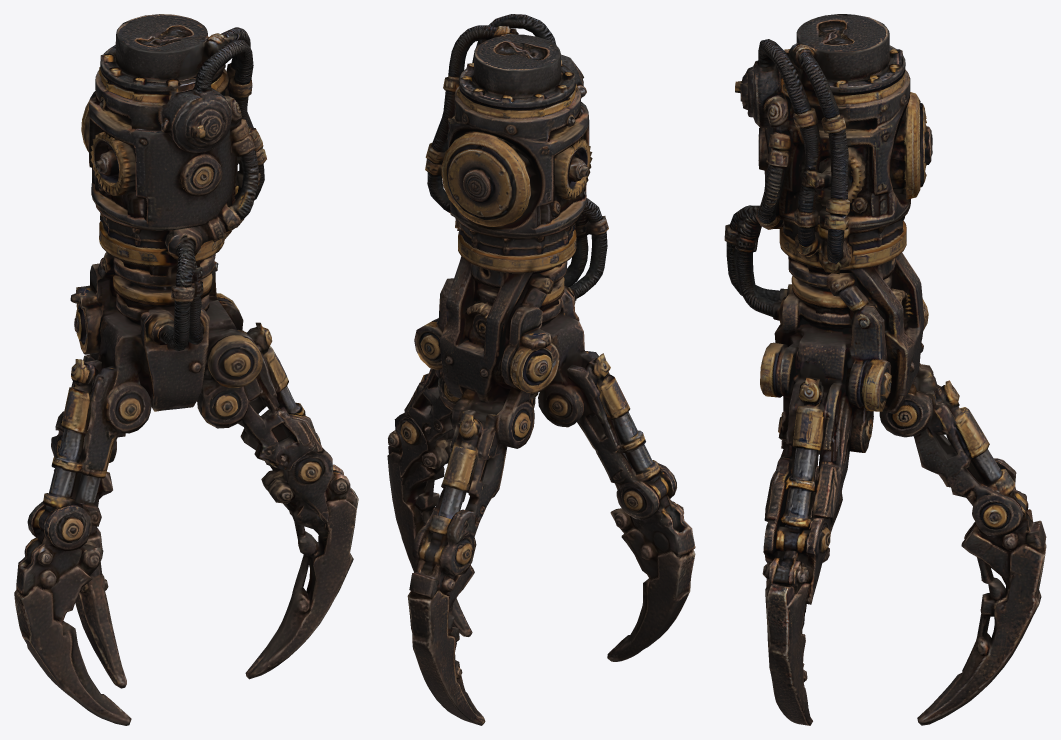
Rendered from raw_claw.glb.
3 renders of one model, left to right at view 1: azimuth 30°, elevation 25°; view 2: azimuth 150°, elevation 25°; view 3: azimuth 270°, elevation 25°, orthographic. The views are drawn at different scales.
Visible parts, largest first — view 1: tripo_node_3e6aede4-68e4-4df2-83aa-4c44b4b540d1; view 2: tripo_node_3e6aede4-68e4-4df2-83aa-4c44b4b540d1; view 3: tripo_node_3e6aede4-68e4-4df2-83aa-4c44b4b540d1.
Part boxes in pixels (box(x1,y1,x2,y2)): tripo_node_3e6aede4-68e4-4df2-83aa-4c44b4b540d1: box(14, 14, 358, 725); tripo_node_3e6aede4-68e4-4df2-83aa-4c44b4b540d1: box(387, 14, 695, 725); tripo_node_3e6aede4-68e4-4df2-83aa-4c44b4b540d1: box(724, 14, 1046, 725).
Size of the model in its own units: 0.4995 by 1 by 0.4181.
1 material, 1 textured.
